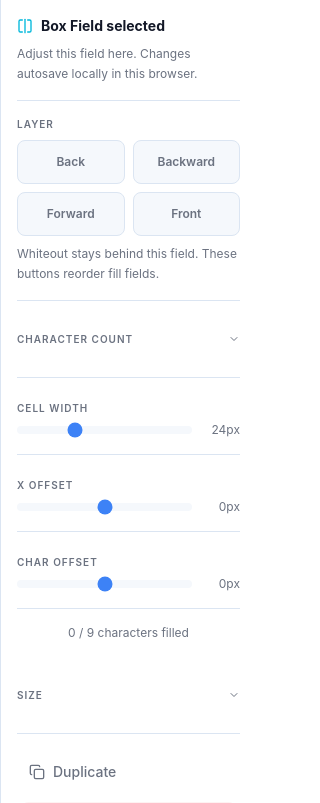
Test: ContextPanel form-fidelity comb controls › keeps the exact legacy count list and hides Y offset flag-off
Click the button "Character Count": {"x": 128, "y": 339} [17, 317, 240, 361]
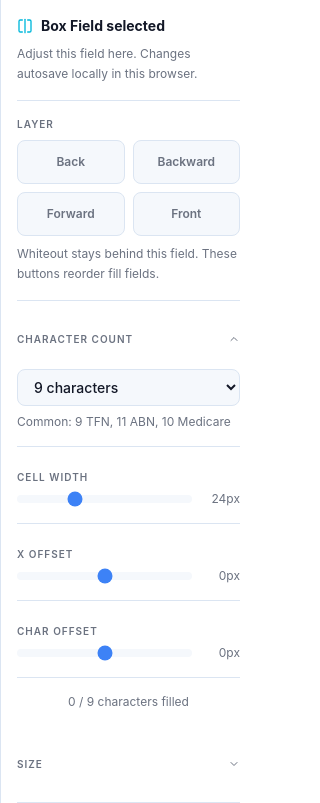
Result: the text "Common: 9 TFN, 11 ABN, 10 Medicare" is shown at [17, 414, 240, 430]
